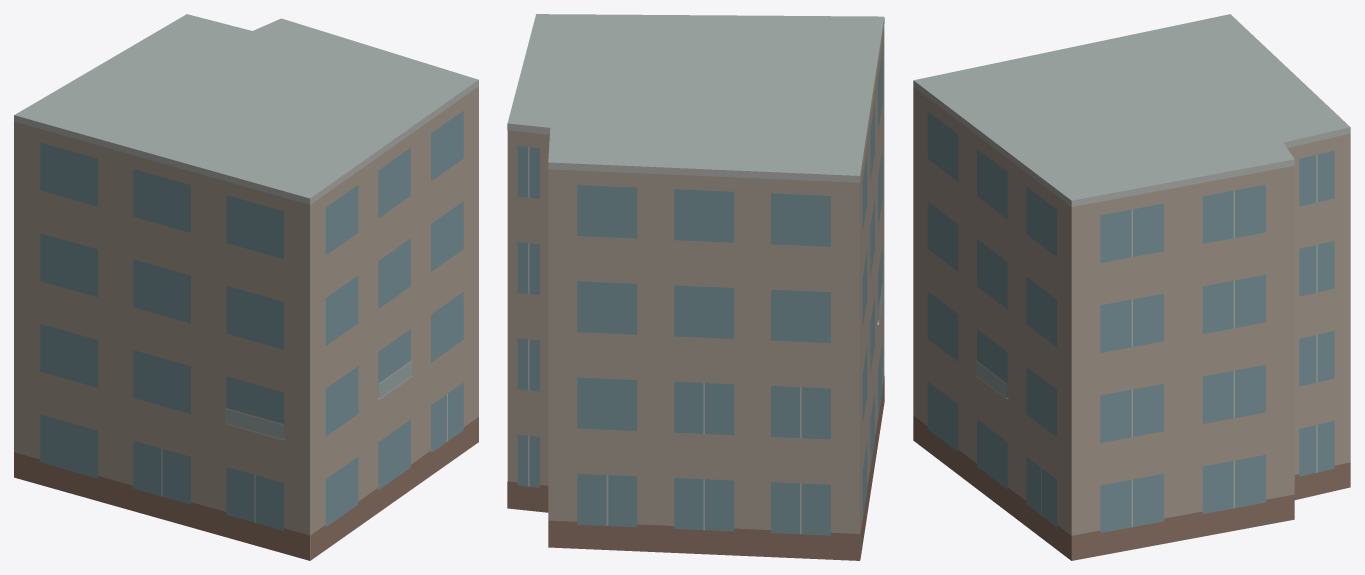
File: survey-upis-32684515.glb
The picture shows the model from 3 angles, left to right: view 1: azimuth 30°, elevation 25°; view 2: azimuth 150°, elevation 25°; view 3: azimuth 270°, elevation 25°; orthographic projection. The views are drawn at different scales.
Visible parts, largest first — view 1: survey-upis-32684515.tmp; view 2: survey-upis-32684515.tmp; view 3: survey-upis-32684515.tmp.
Part boxes in pixels (x1=…): survey-upis-32684515.tmp: x1=14, y1=14, x2=478, y2=560; survey-upis-32684515.tmp: x1=507, y1=14, x2=884, y2=560; survey-upis-32684515.tmp: x1=913, y1=14, x2=1350, y2=560.
Size of the model in its own units: 15.24 by 13.7 by 15.08.
